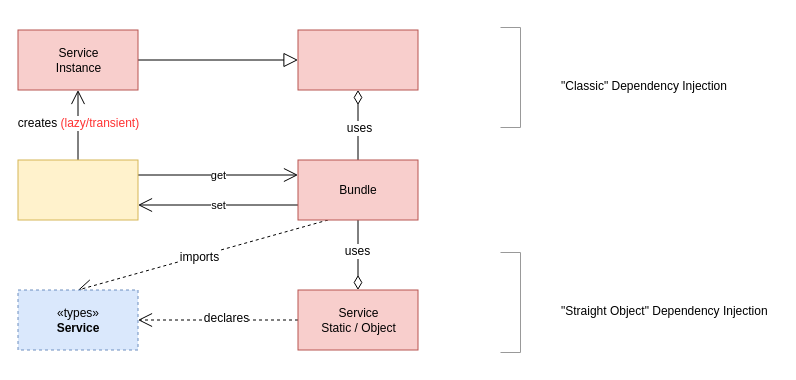
Some shapes in this 796 by 380 pixel diagram are drawn without their labels. Each missing label, with the centre of its shape:
"Container" belongs at point (77, 189).
"«interface» Service" belongs at point (357, 59).
